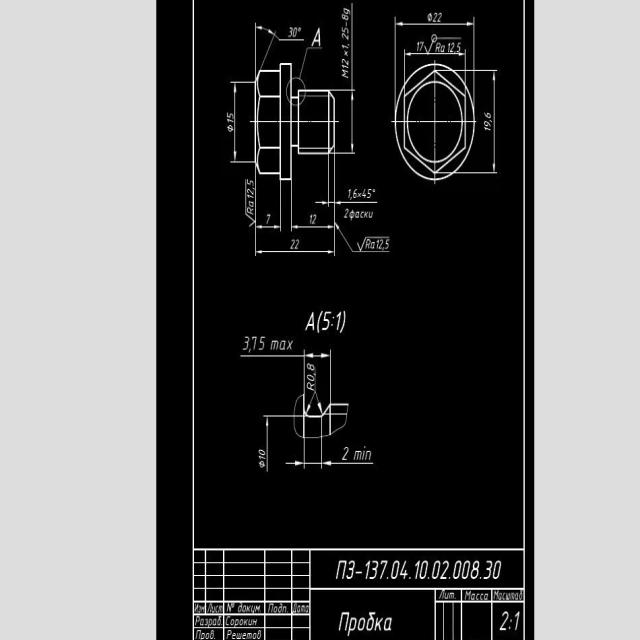marking_line: (253, 181, 342, 259), (391, 18, 477, 62), (244, 352, 334, 391), (284, 438, 375, 468), (335, 209, 392, 255), (476, 69, 500, 177), (290, 182, 340, 232), (229, 78, 254, 166), (333, 158, 377, 208), (261, 415, 292, 473), (320, 438, 374, 469), (304, 349, 332, 403), (254, 181, 284, 231), (336, 85, 356, 155), (254, 19, 306, 41), (253, 22, 277, 69), (296, 47, 322, 89), (314, 156, 332, 209), (404, 48, 468, 62), (282, 438, 305, 470), (305, 392, 323, 415)
numeric: (498, 611, 509, 633), (452, 558, 462, 581), (512, 609, 521, 634), (321, 311, 332, 331), (390, 559, 400, 581), (482, 559, 492, 581), (379, 559, 389, 580), (419, 560, 429, 581), (470, 559, 480, 580), (492, 559, 502, 580), (430, 561, 441, 580), (412, 559, 421, 582), (462, 560, 471, 582), (369, 560, 378, 581), (400, 560, 408, 583), (441, 559, 449, 582), (347, 560, 355, 579), (364, 561, 371, 579), (335, 311, 341, 331), (342, 446, 349, 461), (251, 336, 258, 351), (258, 337, 266, 350), (242, 336, 249, 350), (247, 178, 255, 188), (287, 25, 293, 38), (247, 187, 255, 196), (294, 239, 300, 250), (437, 12, 443, 23), (352, 187, 357, 200), (341, 33, 350, 40), (312, 213, 317, 225), (420, 40, 425, 52), (227, 112, 234, 120), (341, 14, 349, 21), (343, 8, 351, 15), (343, 208, 348, 219), (361, 187, 366, 198), (266, 213, 271, 224), (449, 42, 454, 53), (432, 12, 437, 23), (367, 188, 372, 198), (378, 239, 383, 249), (342, 58, 349, 65), (342, 27, 349, 34), (290, 238, 294, 250), (342, 44, 350, 50), (246, 193, 254, 199), (258, 454, 266, 460), (258, 450, 266, 456), (347, 188, 351, 199), (416, 41, 420, 52), (457, 41, 461, 52), (341, 64, 349, 69), (293, 27, 297, 37), (447, 42, 451, 52), (386, 239, 389, 250), (310, 213, 312, 225), (227, 119, 234, 122), (377, 239, 379, 249)
special_symbol: (425, 33, 464, 54), (356, 234, 390, 251), (243, 179, 255, 226), (339, 311, 347, 333), (317, 310, 323, 333), (226, 125, 234, 132), (259, 460, 265, 468), (428, 13, 433, 22), (331, 315, 335, 326), (298, 26, 302, 33), (372, 189, 376, 193)
